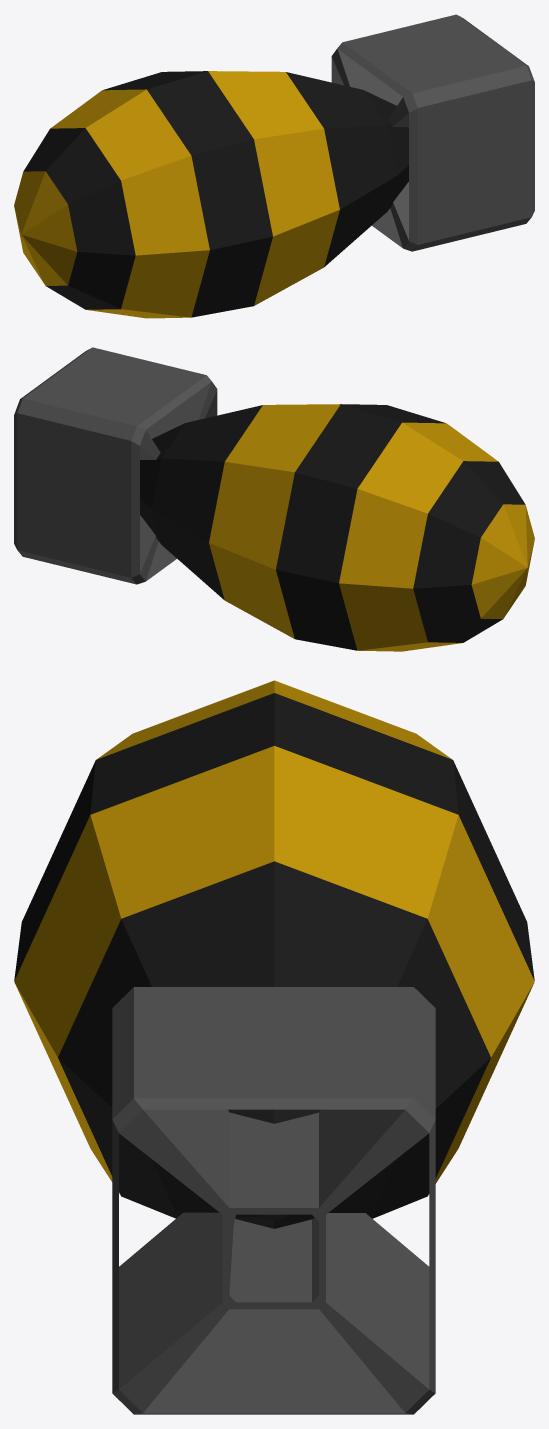
Rendered from AtomicBomb.FBX.
The picture shows the model from 3 angles, top to bottom: view 1: azimuth 30°, elevation 25°; view 2: azimuth 150°, elevation 25°; view 3: azimuth 270°, elevation 25°; orthographic projection. The views are drawn at different scales.
Parts seen in each view (by area): view 1: Sphere001; view 2: Sphere001; view 3: Sphere001.
Part boxes in pixels (<box>): Sphere001: <box>14,14,534,318</box>; Sphere001: <box>14,347,534,651</box>; Sphere001: <box>14,680,534,1414</box>.
Bounding box in the file's own units: 437 × 207 × 207.
